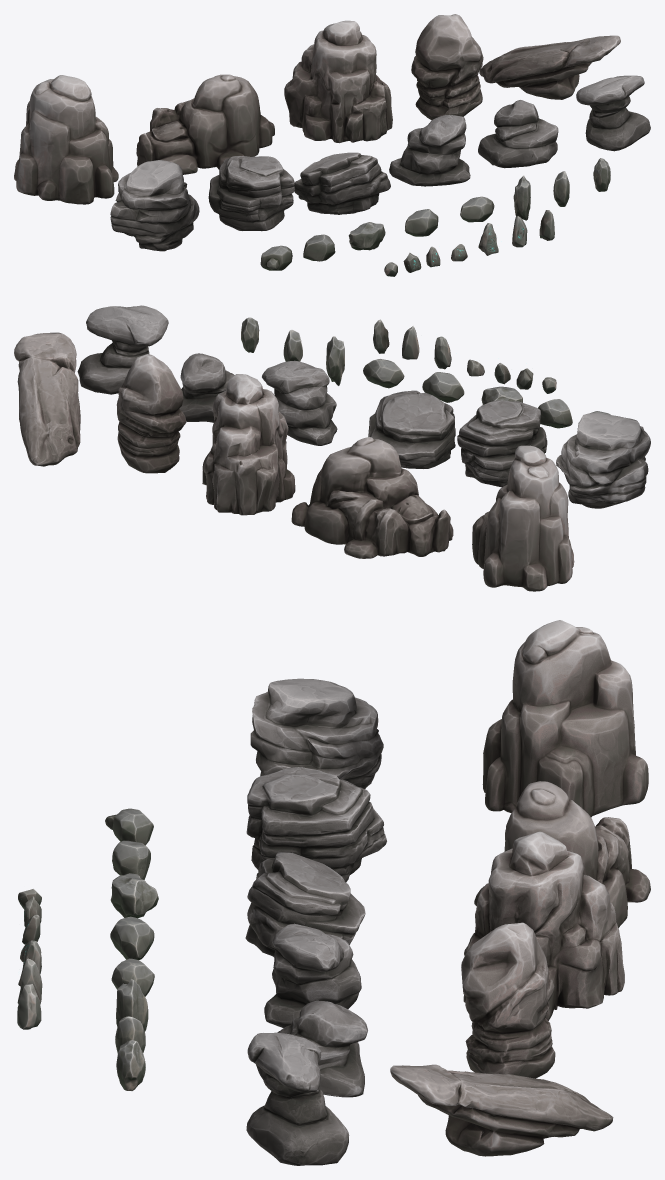
3 renders of one model, top to bottom at view 1: azimuth 30°, elevation 25°; view 2: azimuth 150°, elevation 25°; view 3: azimuth 270°, elevation 25°, orthographic. The views are drawn at different scales.
Parts seen in each view (by area): view 1: BIG_1_BiG_0, Big_3_BiG_0, Big_2_BiG_0, Mid_4_MID_0 (×2), Mid_1_MID_0, Big_4_BiG_0, Mid_2_MID_0, Big_5_BiG_0, Mid_3_MID_0, Mid_5_MID_0, Small_3_SMall_0, Small_4_SMall_0 (+9 smaller); view 2: Big_2_BiG_0, BIG_1_BiG_0, Big_3_BiG_0, Big_5_BiG_0, Mid_1_MID_0, Mid_4_MID_0 (×2), Big_4_BiG_0, Mid_2_MID_0, Mid_3_MID_0, Mid_5_MID_0, Small_4_SMall_0, Small_5_SMall_0 (+8 smaller); view 3: BIG_1_BiG_0, Big_3_BiG_0, Big_5_BiG_0, Big_4_BiG_0, Mid_4_MID_0 (×2), Mid_2_MID_0, Mid_1_MID_0, Mid_5_MID_0, Big_2_BiG_0, Mid_3_MID_0, Small_3_SMall_0, Small_4_SMall_0 (+7 smaller).
Boxes of the visible parts, box(x1,y1,x2,y2) form: BIG_1_BiG_0: box(14, 75, 118, 204); Big_3_BiG_0: box(284, 20, 392, 143); Big_2_BiG_0: box(136, 74, 274, 174); Mid_4_MID_0 (×2): box(389, 100, 558, 186); Mid_1_MID_0: box(110, 160, 199, 251); Big_4_BiG_0: box(411, 14, 483, 120); Mid_2_MID_0: box(208, 156, 294, 231); Big_5_BiG_0: box(479, 35, 620, 99); Mid_3_MID_0: box(294, 152, 390, 214); Mid_5_MID_0: box(576, 75, 650, 151); Small_3_SMall_0: box(348, 222, 385, 250); Small_4_SMall_0: box(405, 209, 438, 236); Big_2_BiG_0: box(291, 437, 453, 558); BIG_1_BiG_0: box(472, 445, 574, 591); Big_3_BiG_0: box(202, 374, 295, 515); Big_5_BiG_0: box(14, 332, 80, 466); Mid_1_MID_0: box(556, 413, 650, 508); Mid_4_MID_0 (×2): box(179, 353, 337, 445); Big_4_BiG_0: box(116, 354, 186, 473); Mid_2_MID_0: box(457, 400, 547, 487); Mid_3_MID_0: box(368, 390, 455, 468); Mid_5_MID_0: box(77, 305, 168, 394); Small_4_SMall_0: box(422, 372, 464, 402); Small_5_SMall_0: box(363, 359, 404, 388); BIG_1_BiG_0: box(482, 620, 648, 817); Big_3_BiG_0: box(463, 831, 624, 1020); Big_5_BiG_0: box(390, 1064, 613, 1156); Big_4_BiG_0: box(461, 922, 555, 1078); Mid_4_MID_0 (×2): box(256, 923, 367, 1097); Mid_2_MID_0: box(246, 767, 386, 882); Mid_1_MID_0: box(250, 678, 383, 788); Mid_5_MID_0: box(246, 1032, 349, 1165); Big_2_BiG_0: box(474, 781, 650, 927); Mid_3_MID_0: box(245, 852, 365, 957); Small_3_SMall_0: box(110, 873, 158, 918); Small_4_SMall_0: box(110, 916, 154, 959).
Bounding box in the file's own units: 29.58 × 6.14 × 19.08.
Materials: 6 (6 with a texture image).
